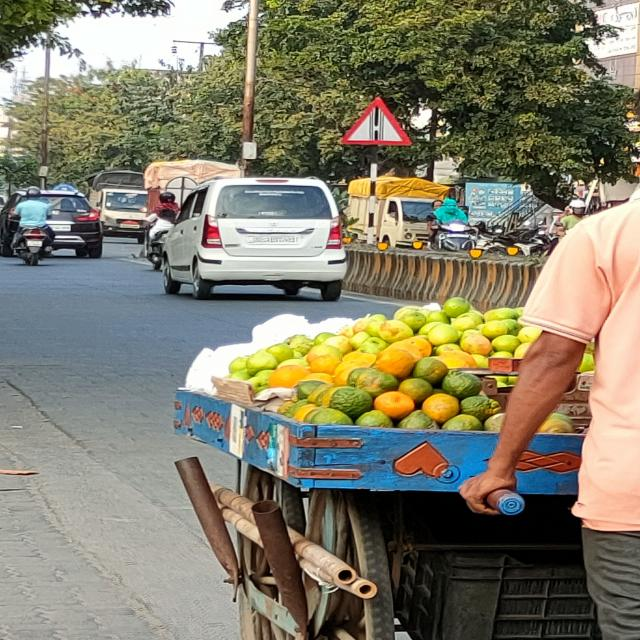ferry: (341, 96, 412, 145)
